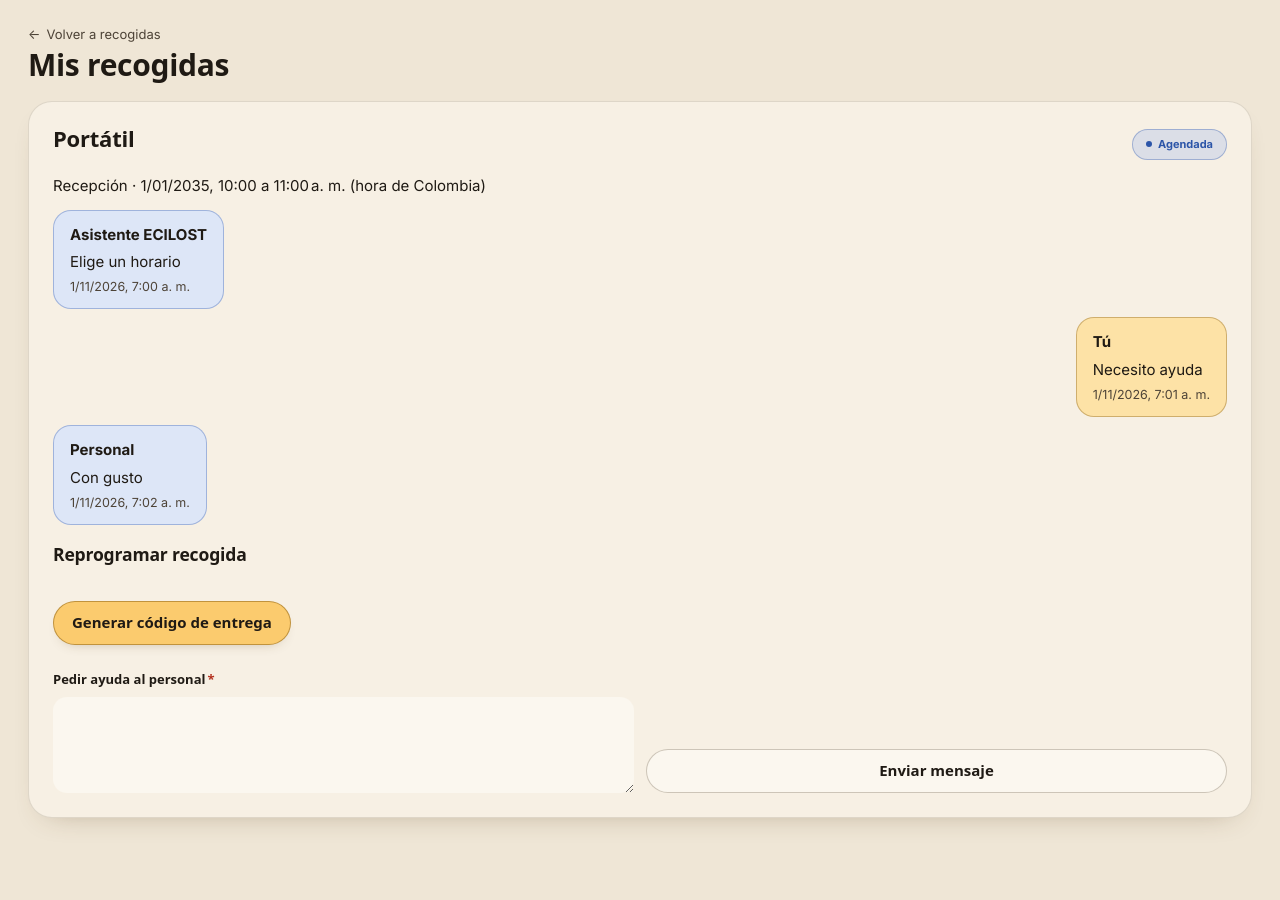
Test: pickup screens › generates a code for the current booking and does not offer its slot again
The image size is (1280, 900).
Click the button "Generar código de entrega" at (172, 622), box [53,600,291,644]
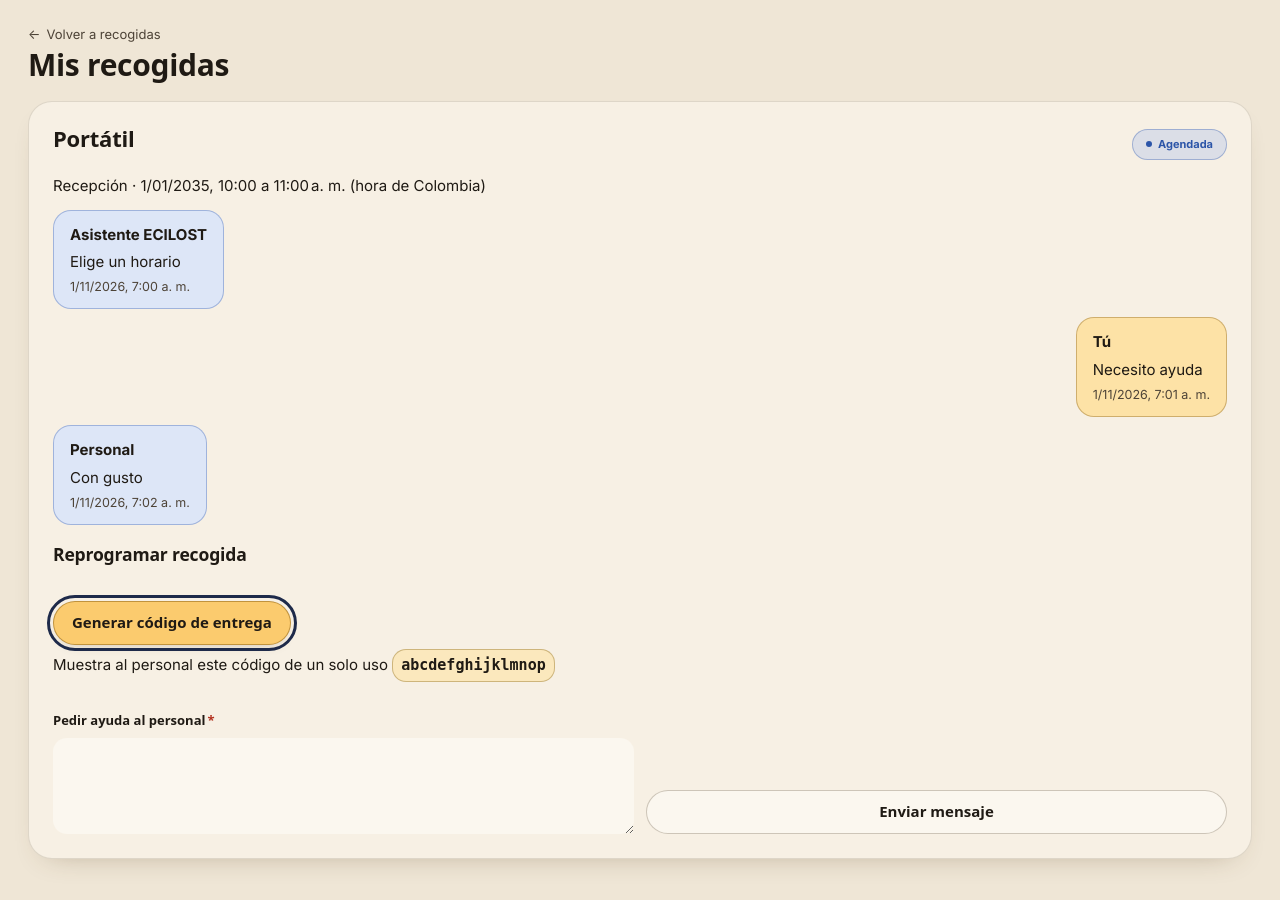
Expected: the text "abcdefghijklmnop" is shown, [392,648,555,682]
